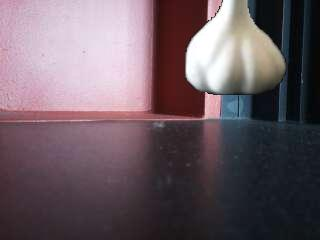Garlic: (185, 0, 286, 95)
